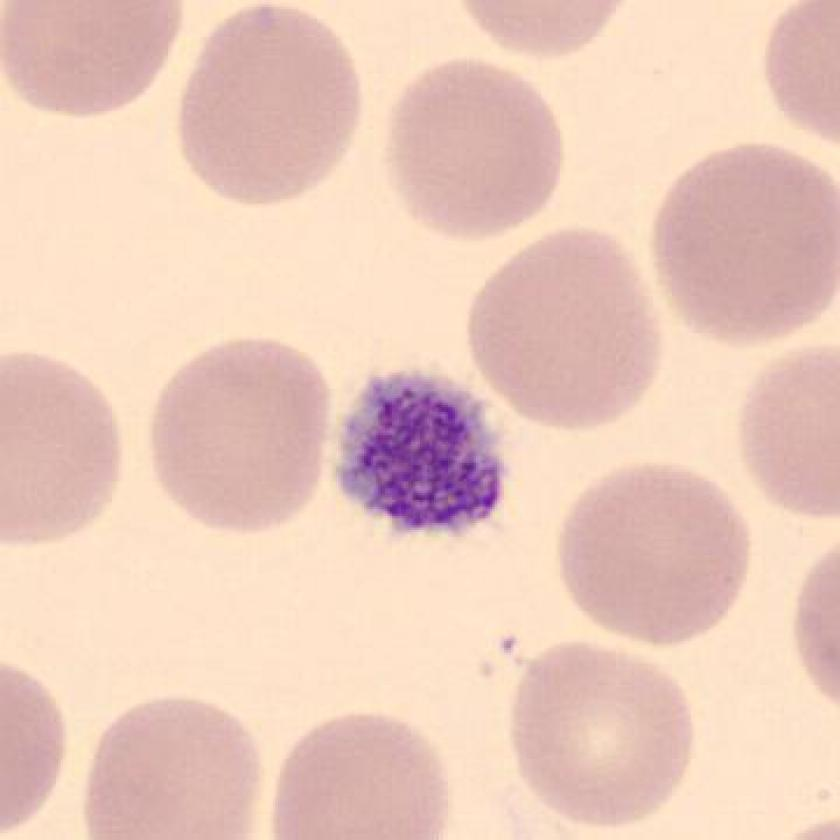platelets: (321, 355, 524, 549)
